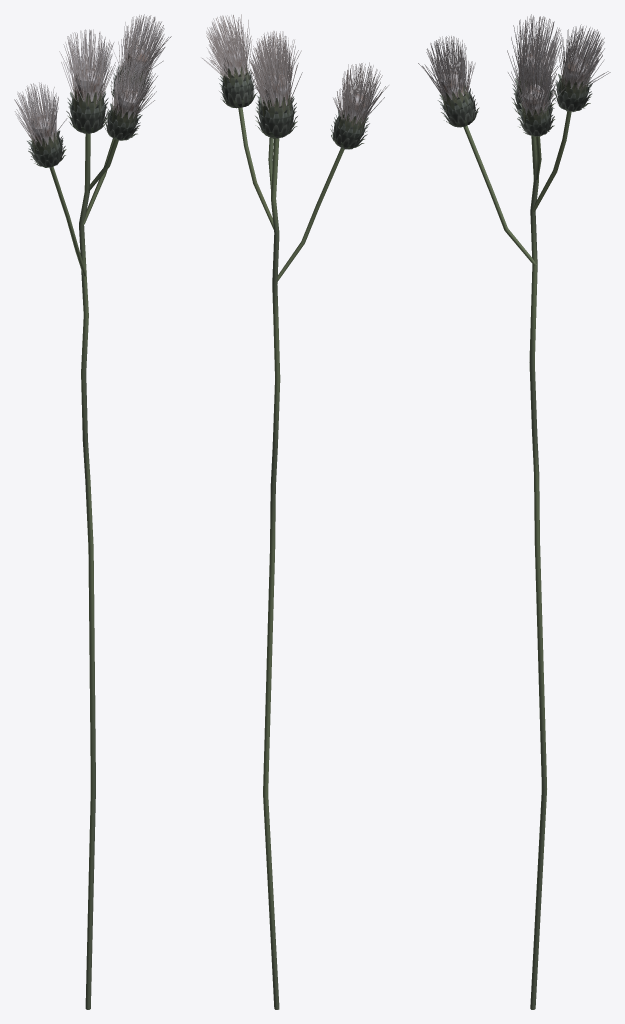
File: flower_02.glb
The picture shows the model from 3 angles, left to right: view 1: azimuth 30°, elevation 25°; view 2: azimuth 150°, elevation 25°; view 3: azimuth 330°, elevation 25°; orthographic projection.
Visible parts, largest first — view 1: stem, core, core.001, core.002, core.003, stem.005; view 2: stem, core, core.001, core.002, core.003, stem.005, stem.004; view 3: stem, core, core.002, core.001, core.003, stem.005, stem.004.
Boxes of the visible parts, x1=… form: stem: x1=79, y1=133, x2=95, y2=1009; core: x1=59, y1=29, x2=115, y2=105; core.001: x1=110, y1=14, x2=171, y2=80; core.002: x1=14, y1=82, x2=67, y2=146; core.003: x1=111, y1=57, x2=157, y2=118; stem.005: x1=49, y1=166, x2=86, y2=276; stem: x1=263, y1=138, x2=280, y2=1009; core: x1=247, y1=35, x2=302, y2=109; core.001: x1=201, y1=14, x2=252, y2=79; core.002: x1=333, y1=62, x2=388, y2=125; core.003: x1=251, y1=31, x2=301, y2=84; stem.005: x1=277, y1=148, x2=344, y2=281; stem.004: x1=238, y1=107, x2=273, y2=229; stem: x1=529, y1=136, x2=546, y2=1009; core: x1=507, y1=14, x2=562, y2=86; core.002: x1=418, y1=36, x2=475, y2=100; core.001: x1=558, y1=24, x2=610, y2=90; core.003: x1=508, y1=54, x2=565, y2=116; stem.005: x1=463, y1=126, x2=536, y2=265; stem.004: x1=532, y1=111, x2=571, y2=211.
Size of the model in its own units: 0.0467 by 0.2684 by 0.0242.
